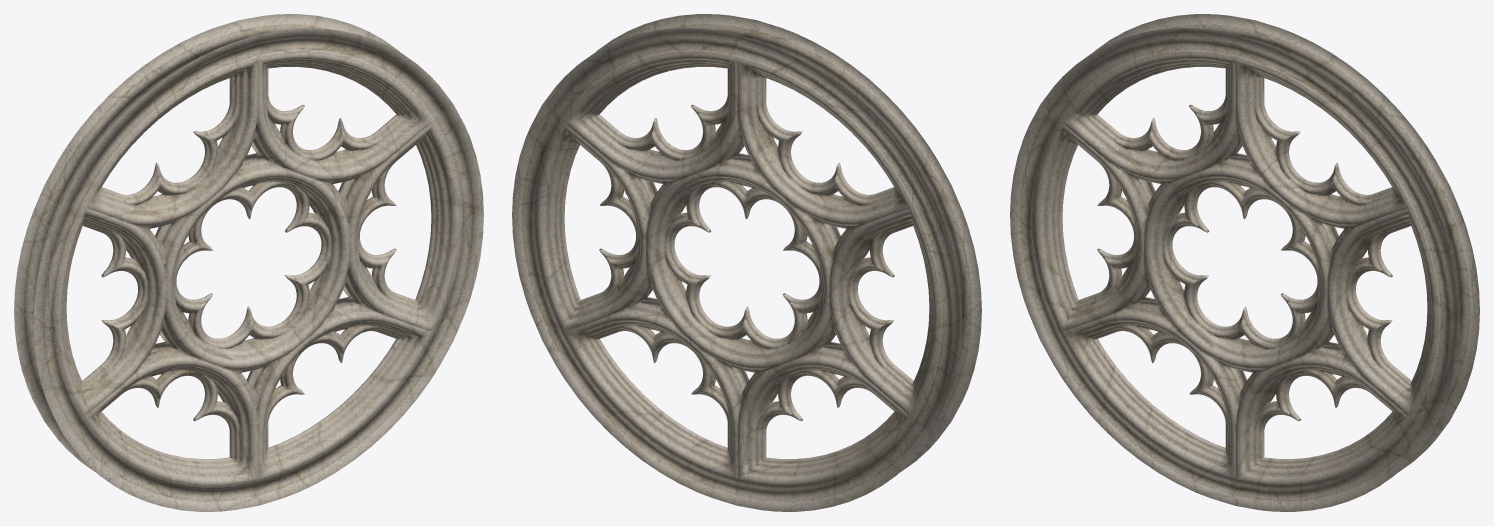
Rendered from gothic_window.glb.
The picture shows the model from 3 angles, left to right: view 1: azimuth 30°, elevation 25°; view 2: azimuth 150°, elevation 25°; view 3: azimuth 330°, elevation 25°; orthographic projection.
Visible parts, largest first — view 1: 2.004_0; view 2: 2.004_0; view 3: 2.004_0.
Boxes of the visible parts, <box> form: 2.004_0: <box>14,14,483,511</box>; 2.004_0: <box>512,14,981,511</box>; 2.004_0: <box>1010,14,1479,511</box>.
Bounding box in the file's own units: 8.59 × 8.59 × 0.6463.
1 material, 1 textured.
